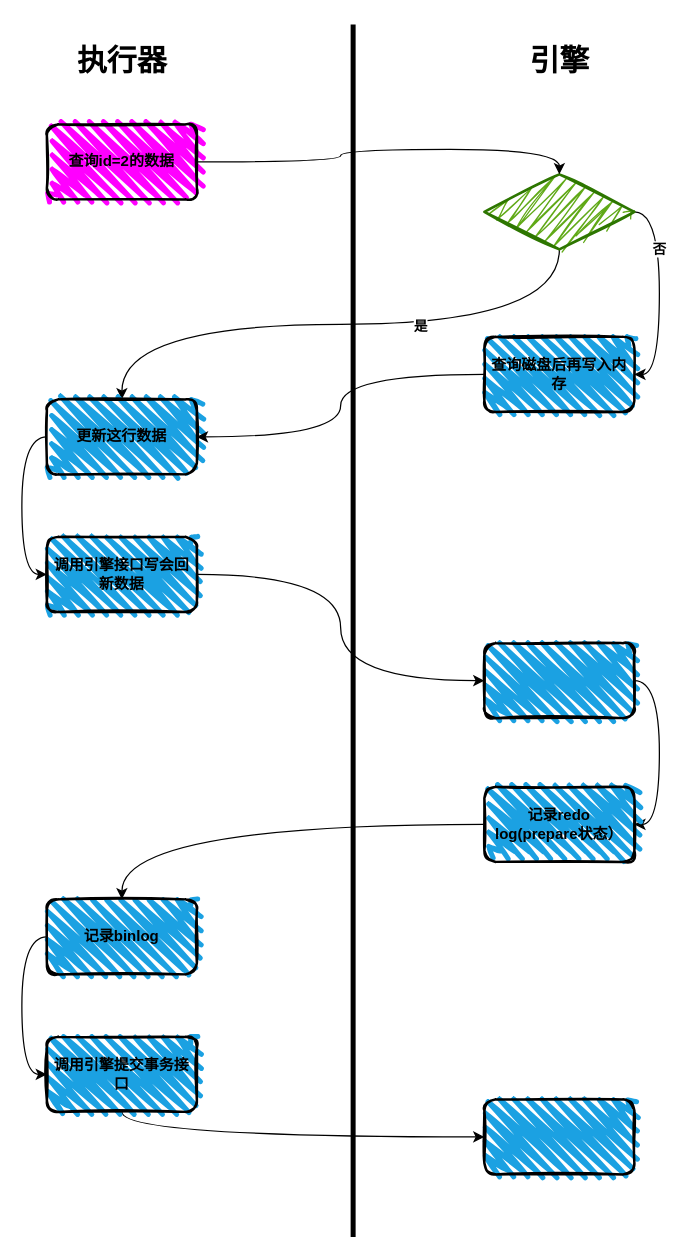
Some shapes in this 688 by 1260 pixel diagram are drawn without their labels. Here are the shapes that lost their labels. From the top down, the centre of each, then its label:
(x=558, y=211): 内存中是否存在
(x=558, y=680): 更新内存写回磁盘
(x=558, y=1136): redo log变成commit状态
